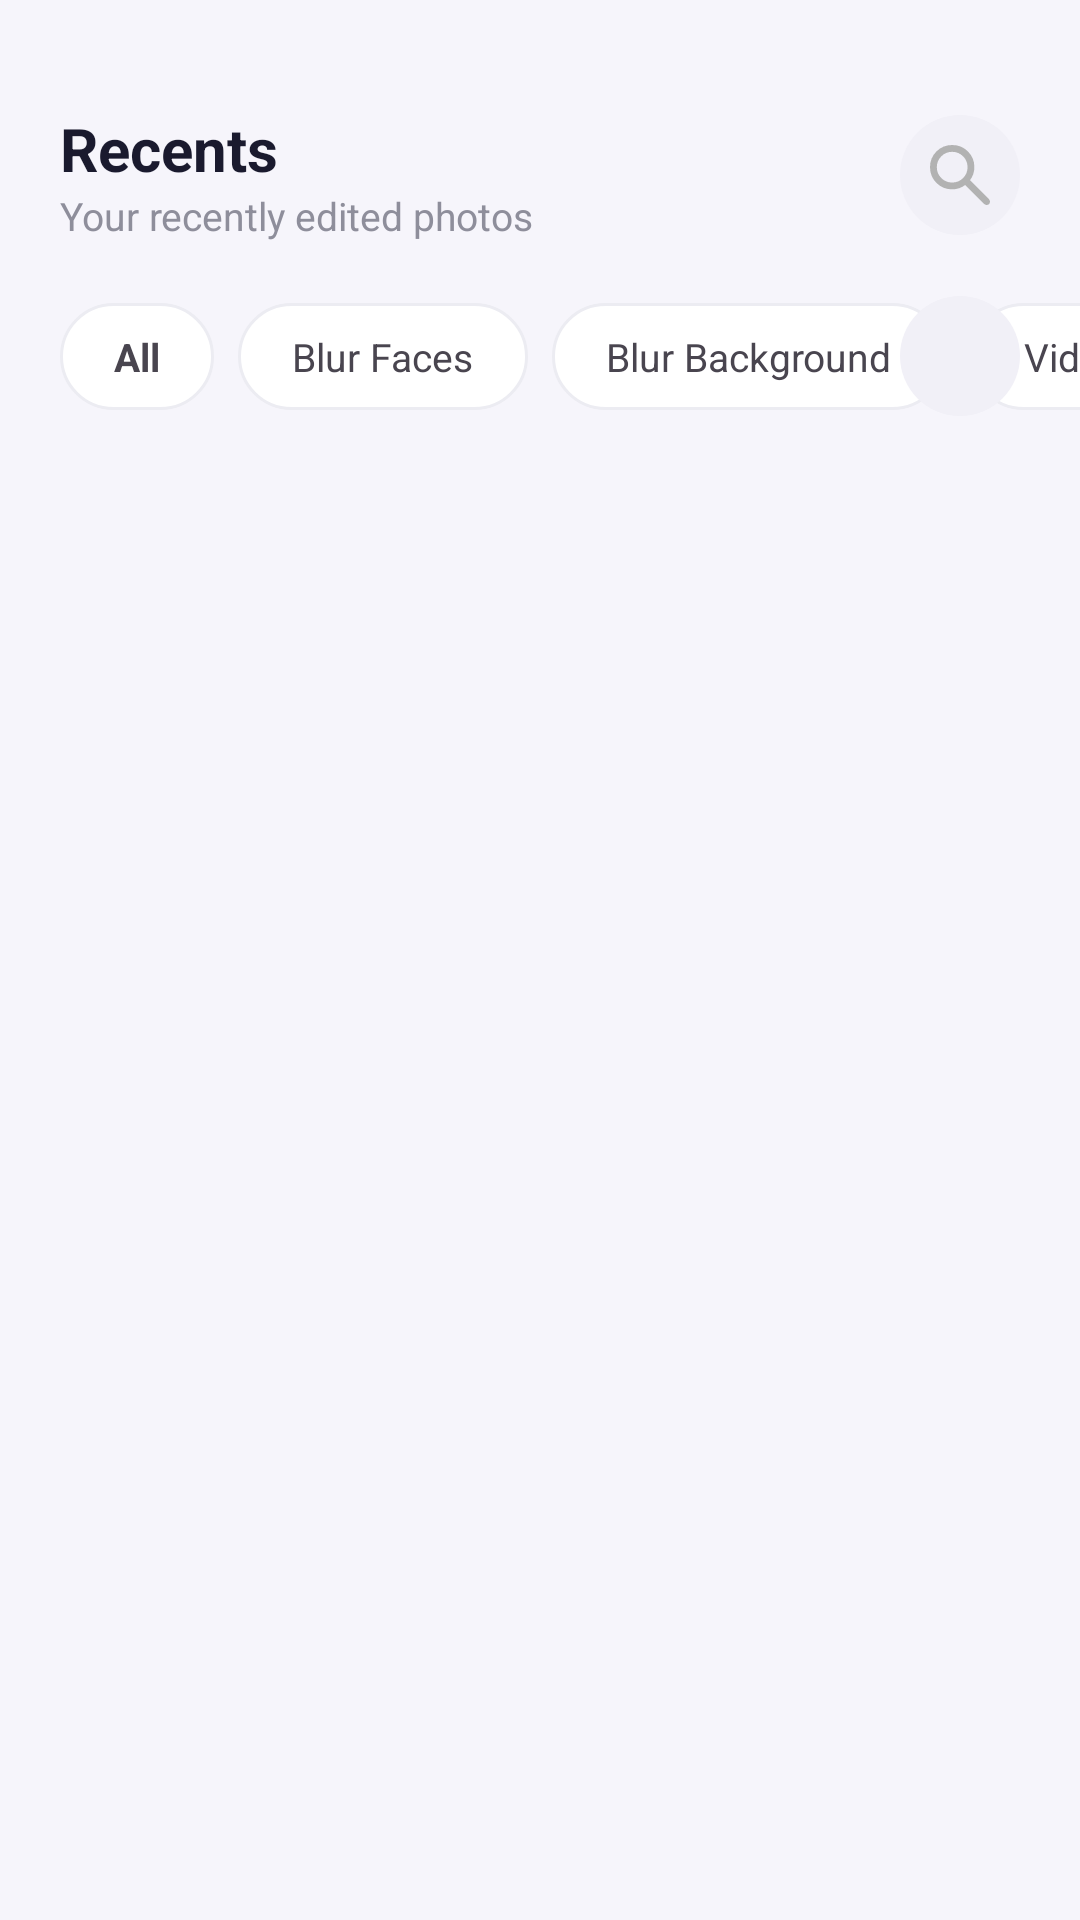

Screen size 1080*1920. Icon name, then its box in pixels as [x1, y1, x2, y2]:
Search: [930, 145, 990, 205]
